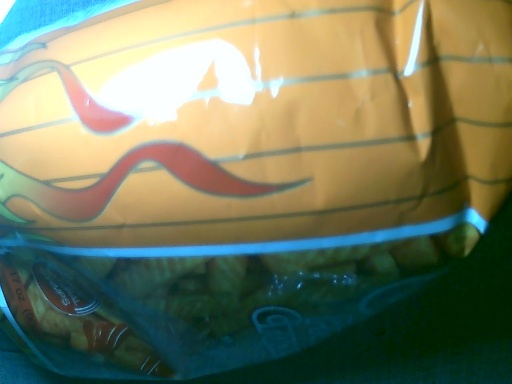plastic: (1, 1, 509, 334)
